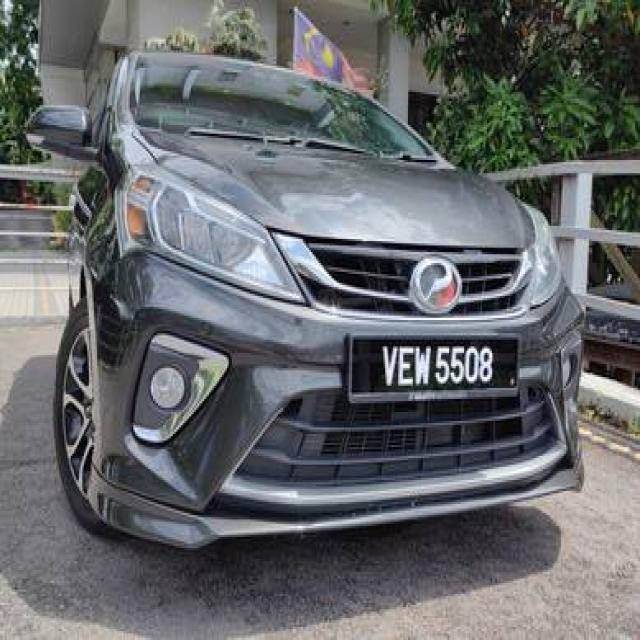PeroduaMyvi: (22, 43, 588, 550)
